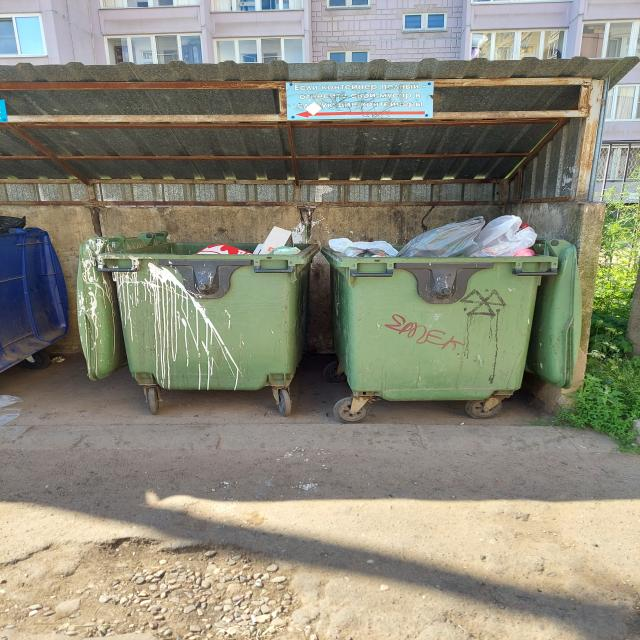bin: (84, 240, 313, 387), (335, 255, 555, 399)
trash: (323, 212, 542, 255), (187, 225, 309, 254)
